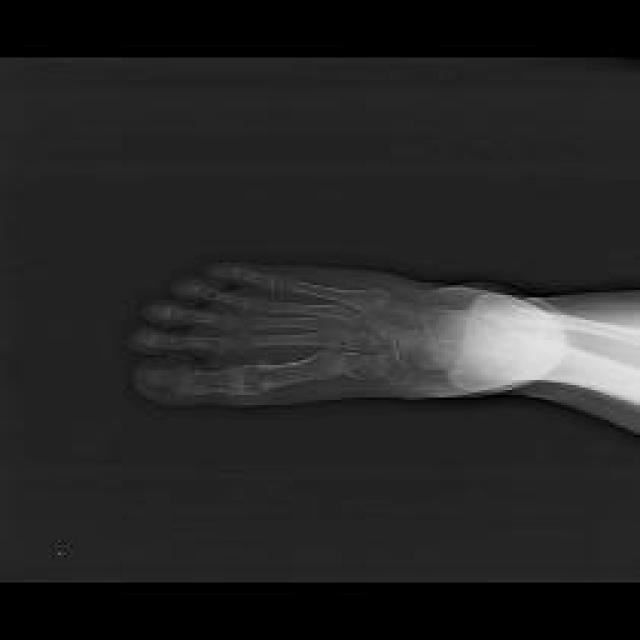normal: (130, 262, 640, 413)
